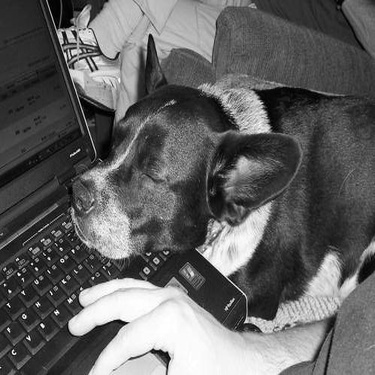dog: (64, 20, 373, 330)
